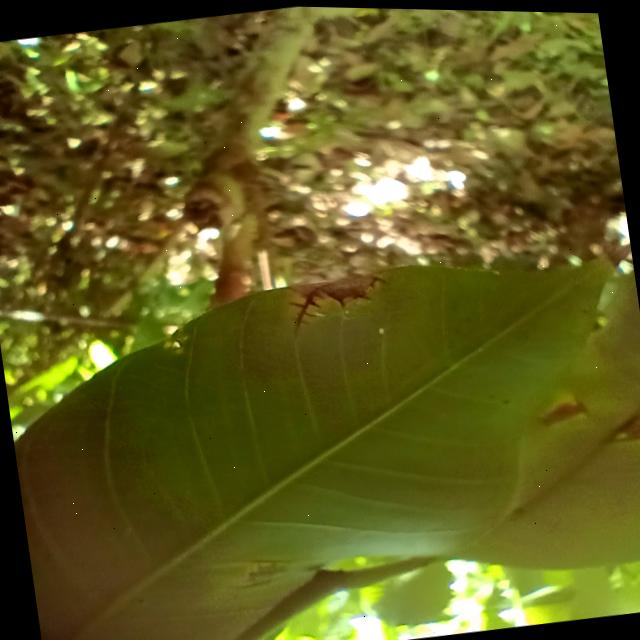Corynespora: (286, 291, 324, 334)
Leaf-Blight: (288, 268, 384, 306)
